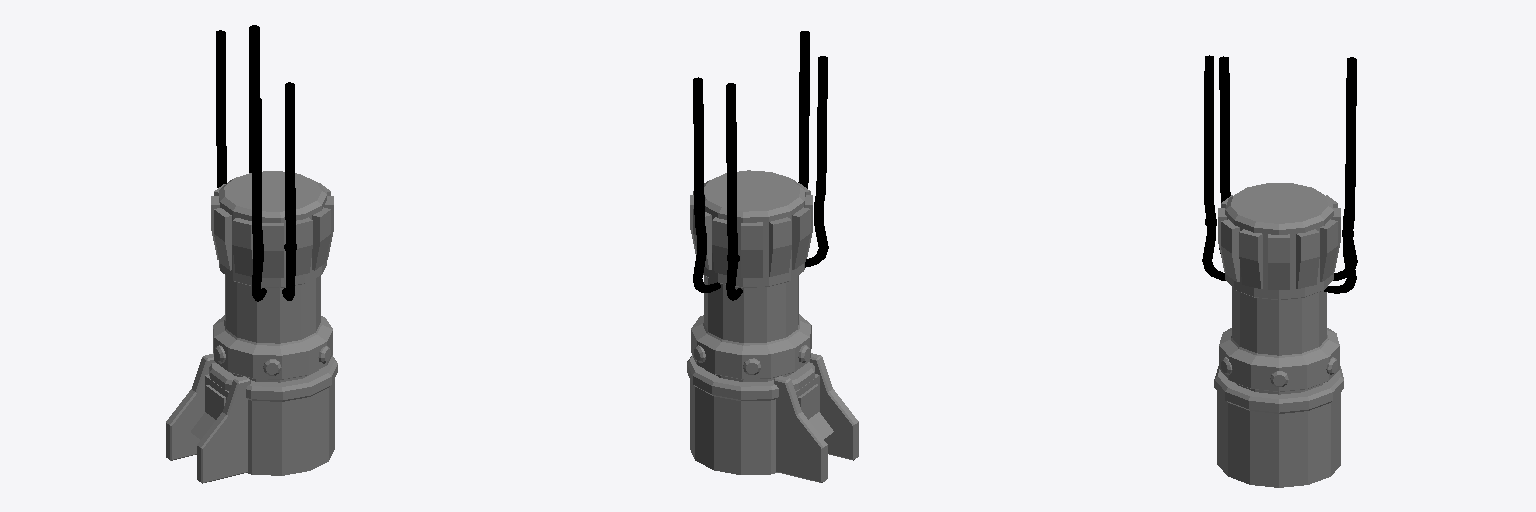
The model's file is machine.obj.
The picture shows the model from 3 angles: view 1: azimuth 30°, elevation 25°; view 2: azimuth 150°, elevation 25°; view 3: azimuth 270°, elevation 25°; orthographic projection.
Parts seen in each view (by area): view 1: machine; view 2: machine; view 3: machine.
Part boxes in pixels (left/top/right/bottom): machine: left=166, top=25, right=337, bottom=483; machine: left=687, top=31, right=858, bottom=482; machine: left=1202, top=55, right=1357, bottom=487.
Bounding box in the file's own units: 10.6 × 27.41 × 9.77.